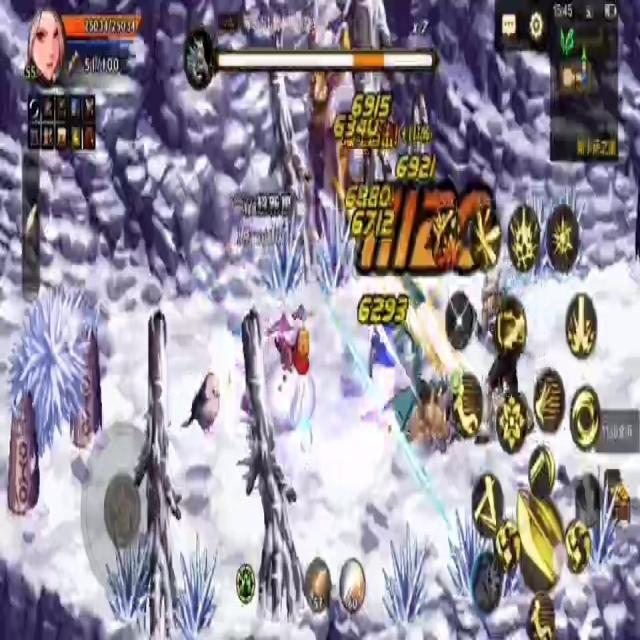player: (265, 311, 316, 448)
